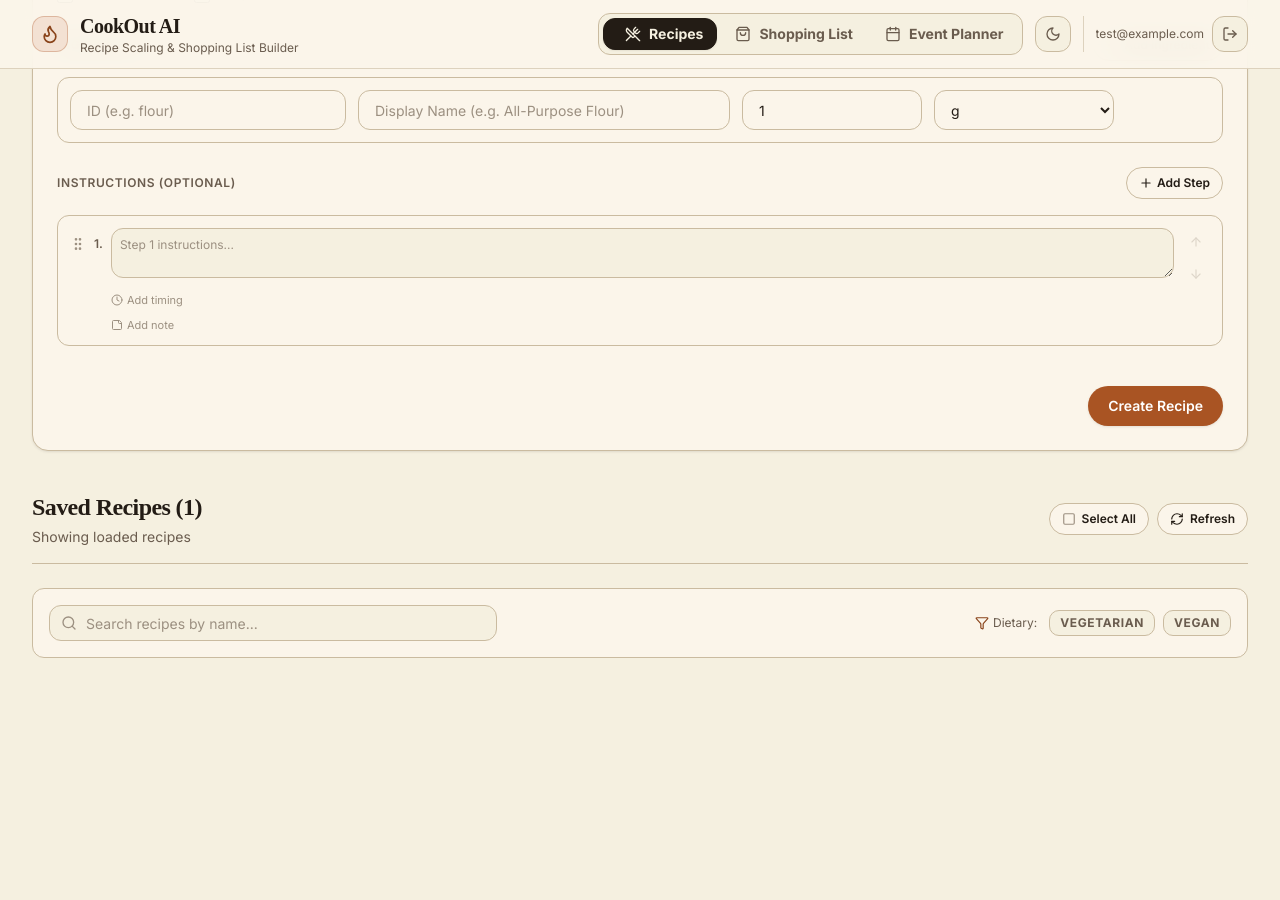
Web UI (TanStack Query & App Integration Tests) › Search & Dietary Filter UI Tests › renders zero-results empty state when search query matches no recipes and allows clearing filters
This screenshot has width=1280, height=900.
(page scrolled)
Search for a non-matching string
Type "NonExistentRecipe" into the field with placeholder "Search recipes by name...". click: [273, 623]
box: x1=49 y1=605 x2=497 y2=641
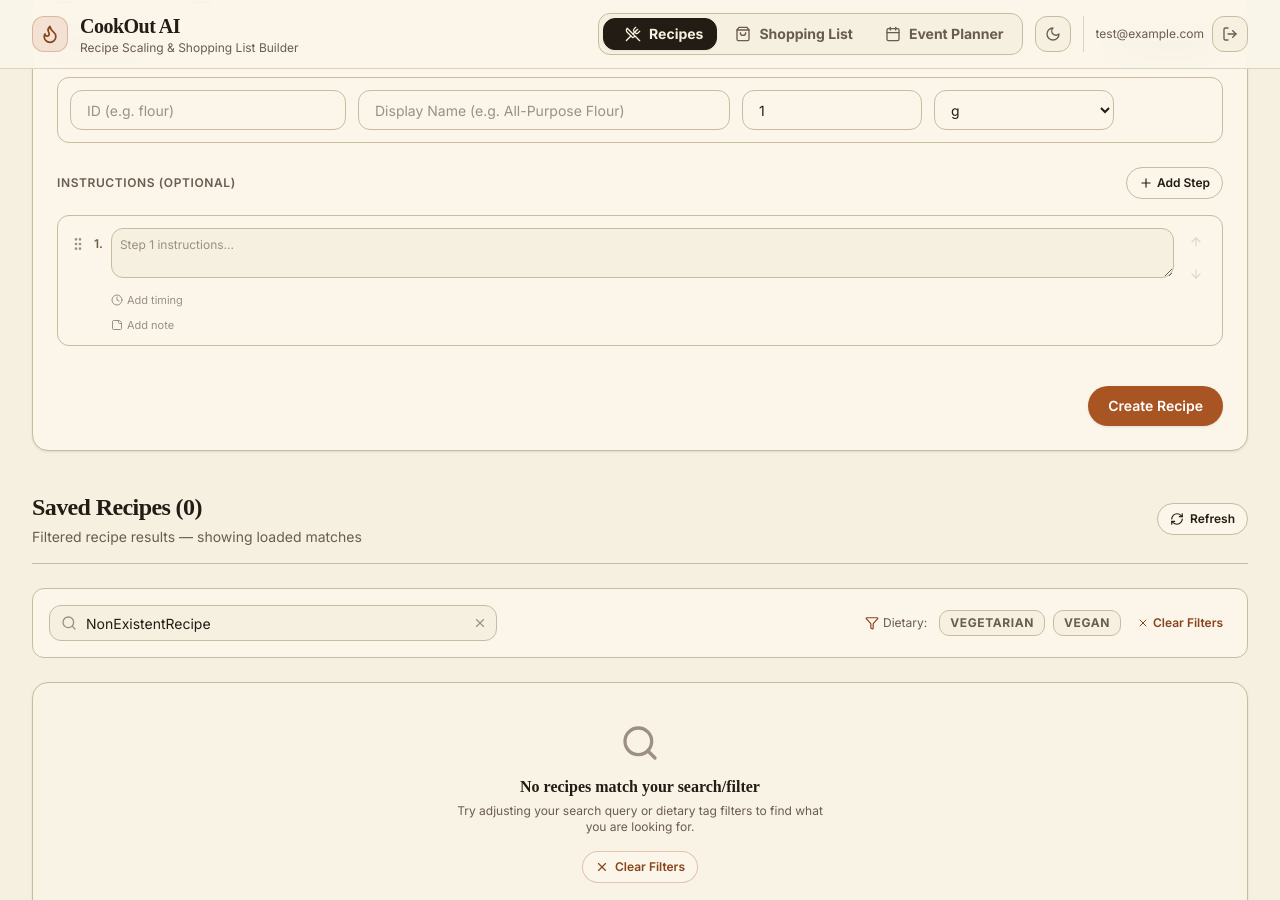
expect the text "Oatmeal" is not shown: met
expect the heading "No recipes match your search/filter" is shown: met, box x1=520 y1=775 x2=760 y2=799
Click "Clear Filters" button
Click the button "Clear Filters" in the row of "Dietary:". click: [1180, 623]
box: x1=1129 y1=609 x2=1231 y2=637
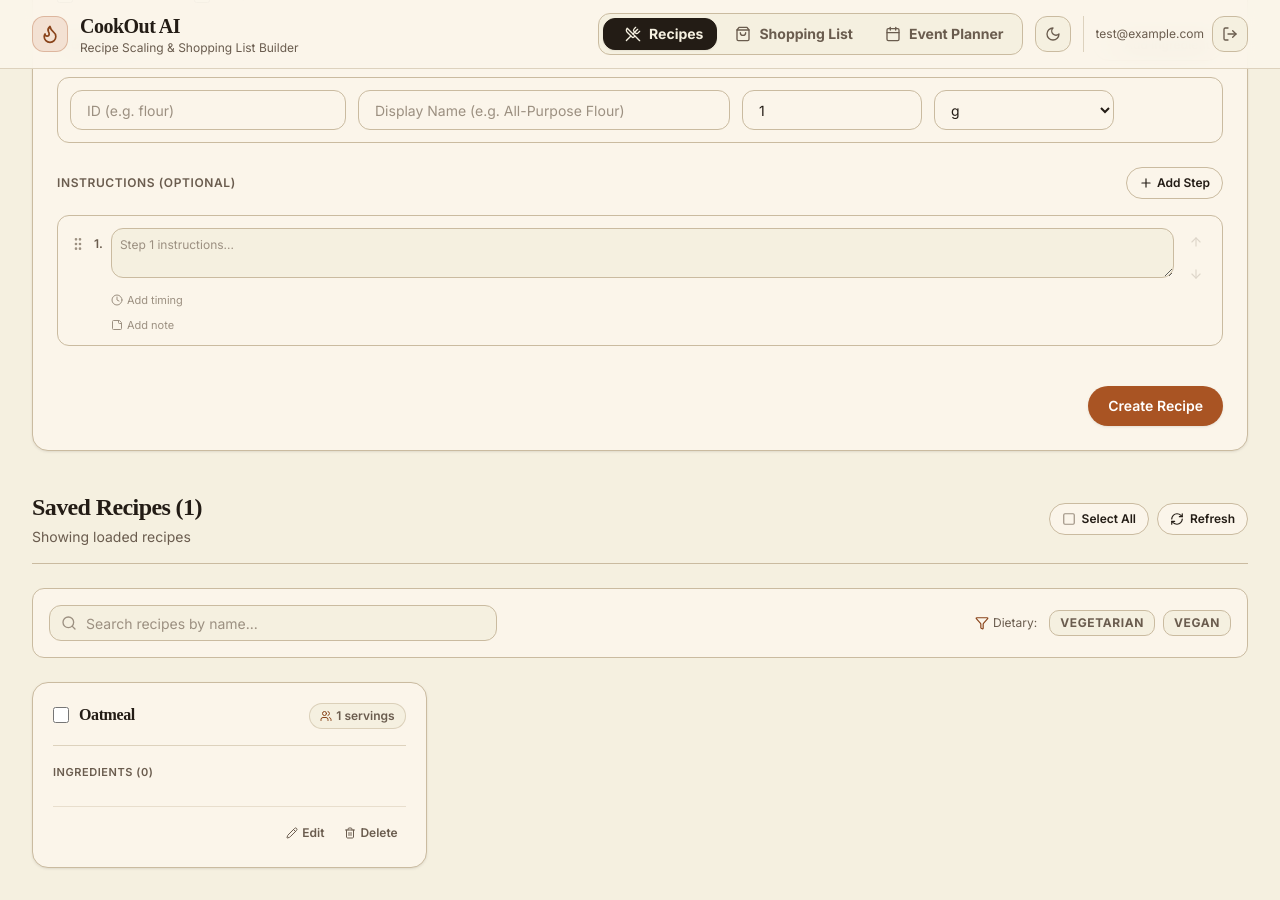
expect the heading "Oatmeal" is shown: met, box x1=79 y1=703 x2=135 y2=727
expect the field with placeholder "Search recipes by name..." is empty: met, box x1=49 y1=605 x2=497 y2=641
